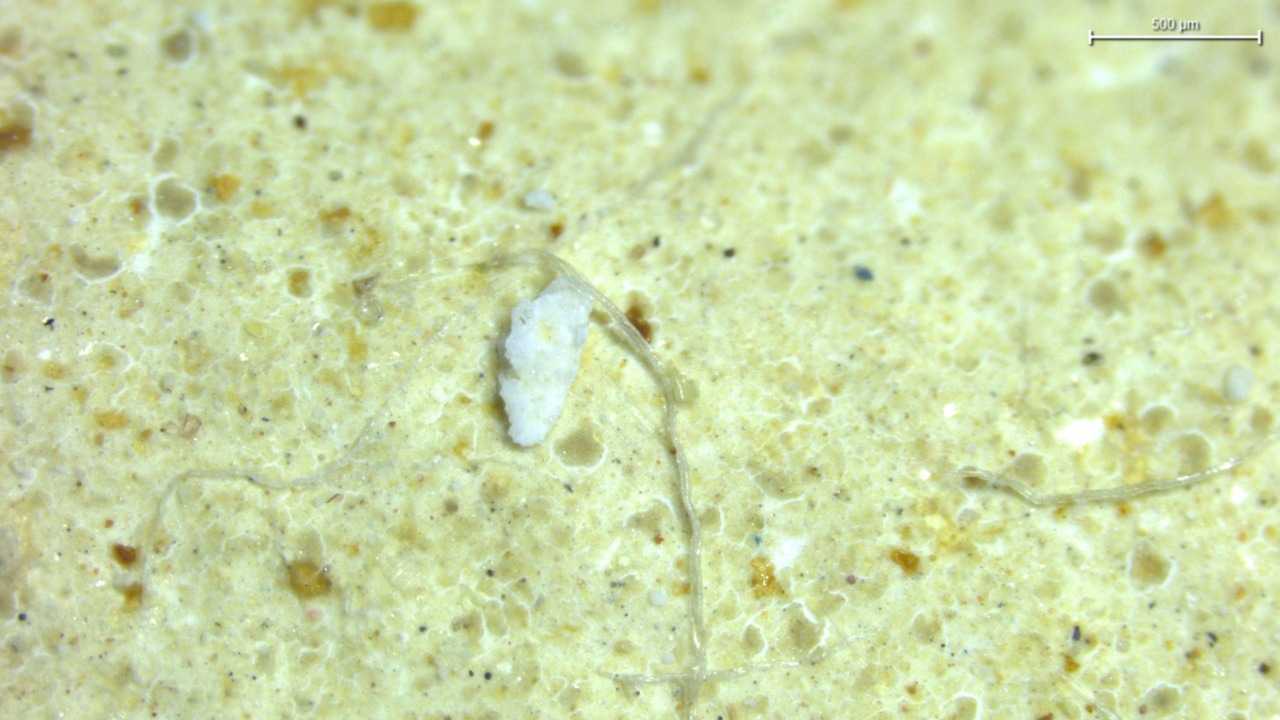microplastic_fragment: (499, 277, 592, 446)
